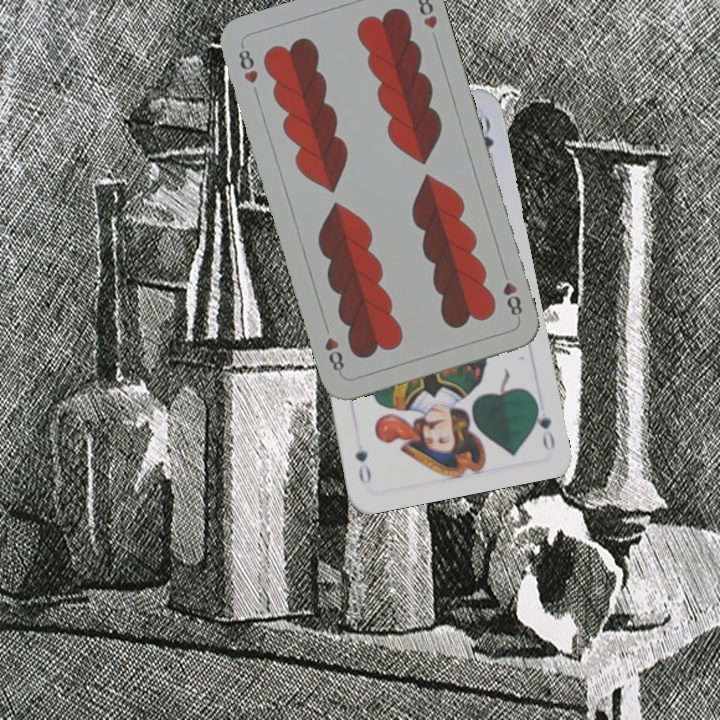GO: (530, 395, 558, 453)
H8: (234, 41, 261, 86), (499, 278, 525, 319)
